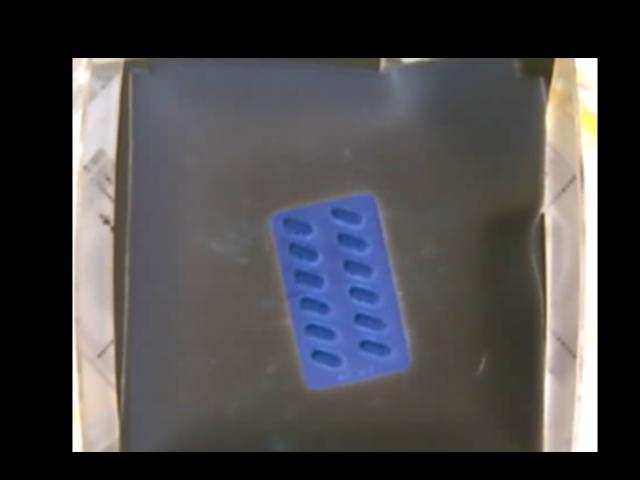Medicine: (269, 190, 411, 392)
